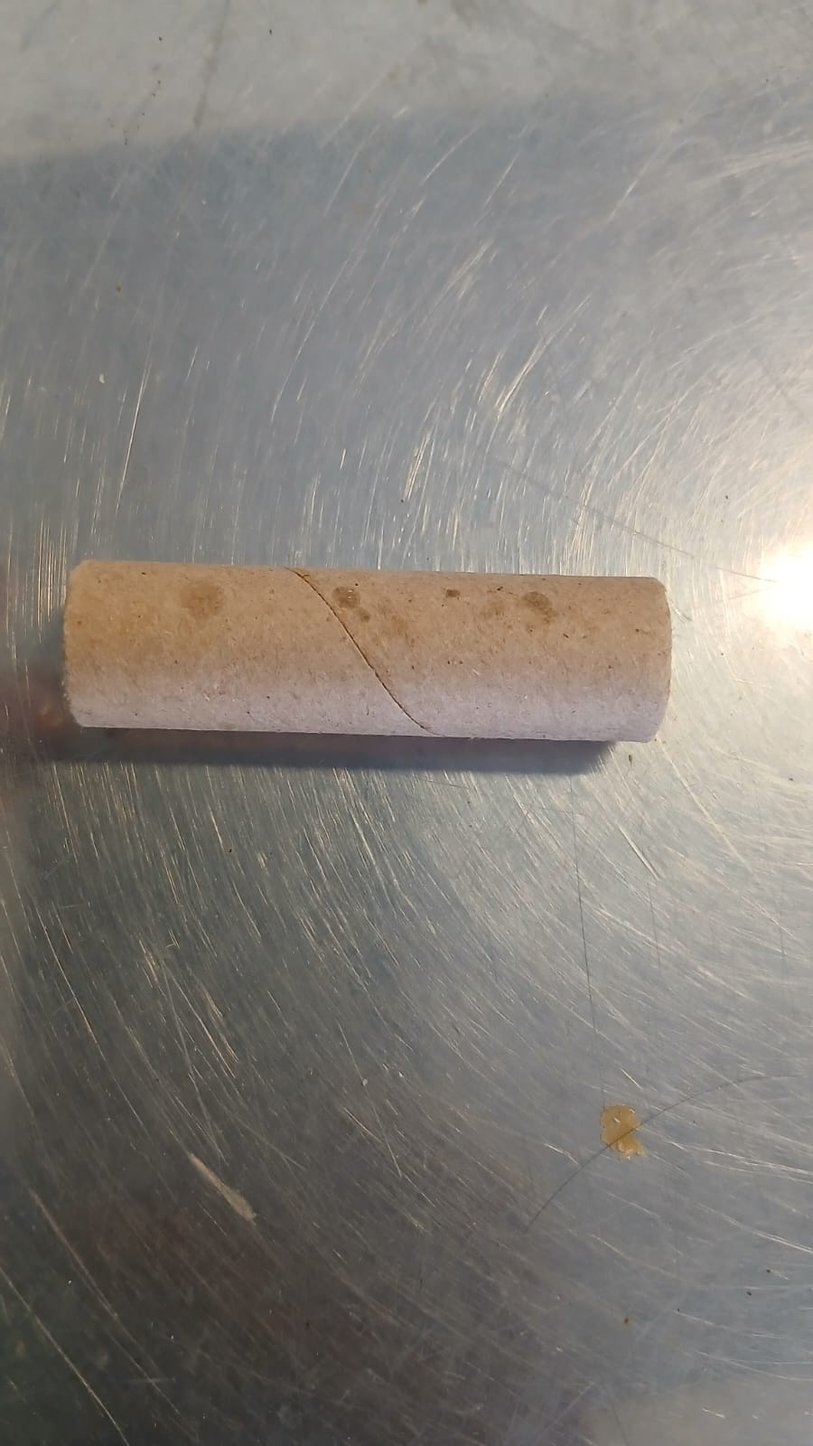Carton: (65, 567, 667, 740)
